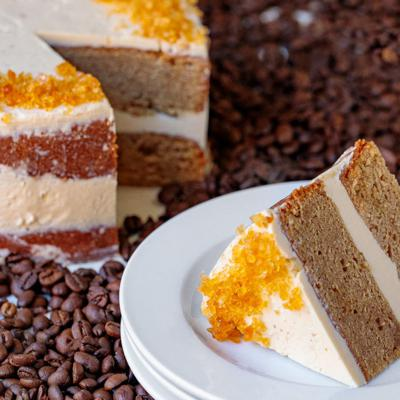cake: (1, 1, 213, 263), (196, 141, 400, 389)
